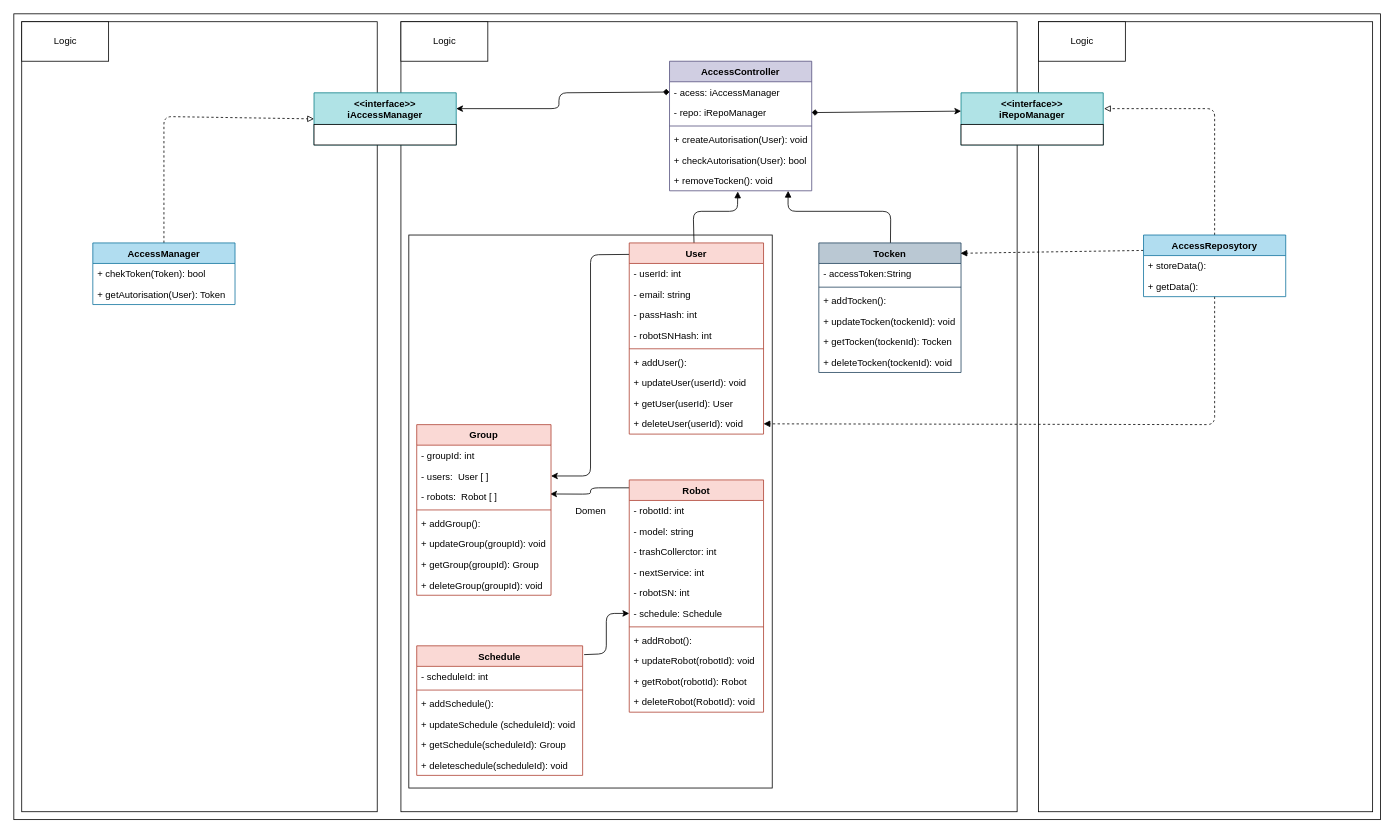
The diagram is 1394 pixels wide and 833 high, and some of its shapes have lost their labels. Here are the shapes that lost their labels. From the top down, the centre of each, then its label:
pixel 384 134: + autorisation(Token):
pixel 1031 134: + GetTocken(User):
